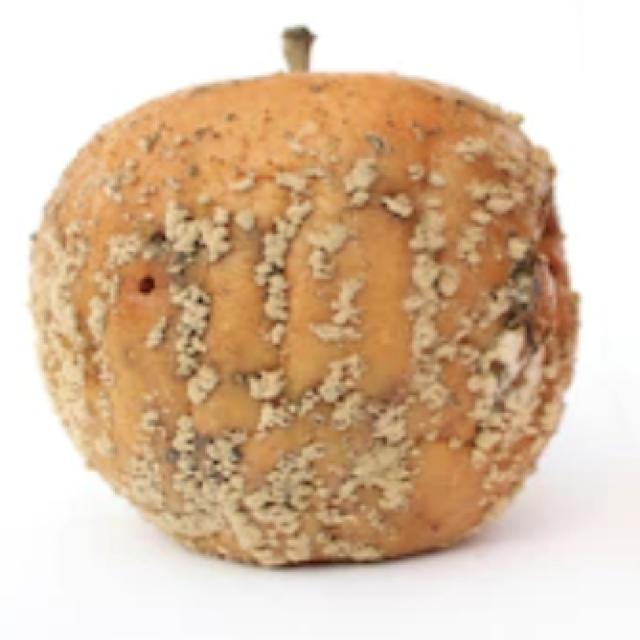Rotten: (25, 61, 586, 570)
